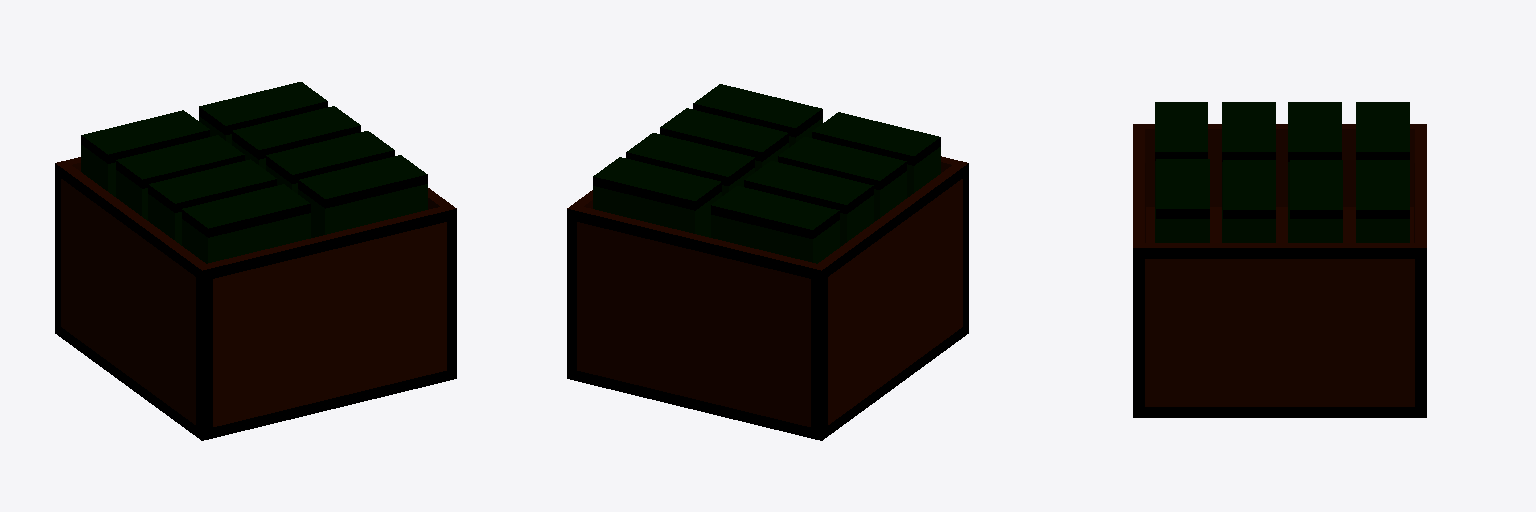
The model's file is ammo_box.obj.
3 views of the same model, side by side, from view 1: azimuth 30°, elevation 25°; view 2: azimuth 150°, elevation 25°; view 3: azimuth 270°, elevation 25° (orthographic).
Parts seen in each view (by area): view 1: Cube; view 2: Cube; view 3: Cube.
Part boxes in pixels (x1,y1,x2,y2): Cube: (55, 82, 456, 440); Cube: (567, 84, 968, 440); Cube: (1133, 102, 1426, 417).
Size of the model in its own units: 0.5872 by 0.4412 by 0.5872.